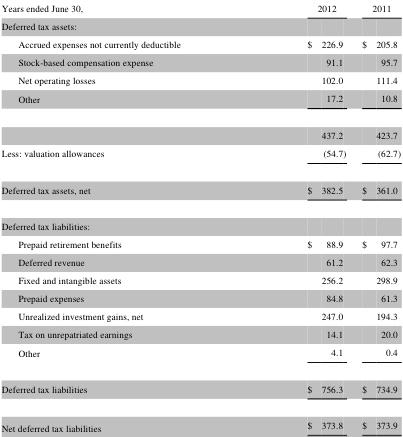table: (0, 0, 400, 433)
table column: (0, 0, 243, 433), (243, 0, 353, 433), (353, 0, 400, 433)
table column header: (0, 0, 400, 16)
table projected row header: (0, 207, 400, 234), (0, 16, 400, 34)
table row: (0, 171, 400, 207), (0, 370, 400, 406), (0, 88, 400, 116), (0, 143, 400, 171), (0, 342, 400, 370), (0, 116, 400, 143), (0, 207, 400, 234), (0, 406, 400, 433), (0, 16, 400, 34), (0, 34, 400, 52), (0, 52, 400, 70), (0, 70, 400, 88), (0, 234, 400, 252), (0, 252, 400, 270), (0, 270, 400, 288), (0, 288, 400, 306), (0, 306, 400, 324), (0, 324, 400, 342), (0, 0, 400, 16)
